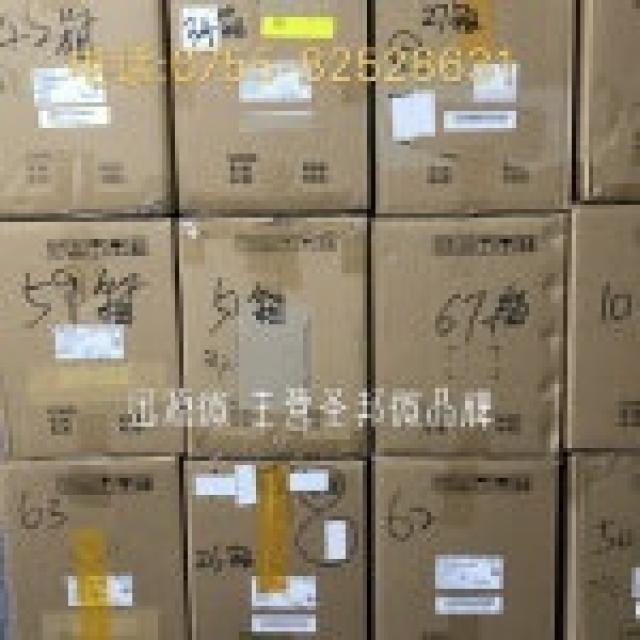box: (369, 209, 569, 454), (0, 215, 186, 457), (181, 217, 368, 456), (166, 0, 371, 216), (371, 4, 574, 217), (3, 1, 176, 219), (368, 453, 564, 634), (0, 459, 188, 636), (183, 457, 371, 634), (561, 195, 636, 452), (560, 452, 636, 636), (572, 0, 636, 201)
